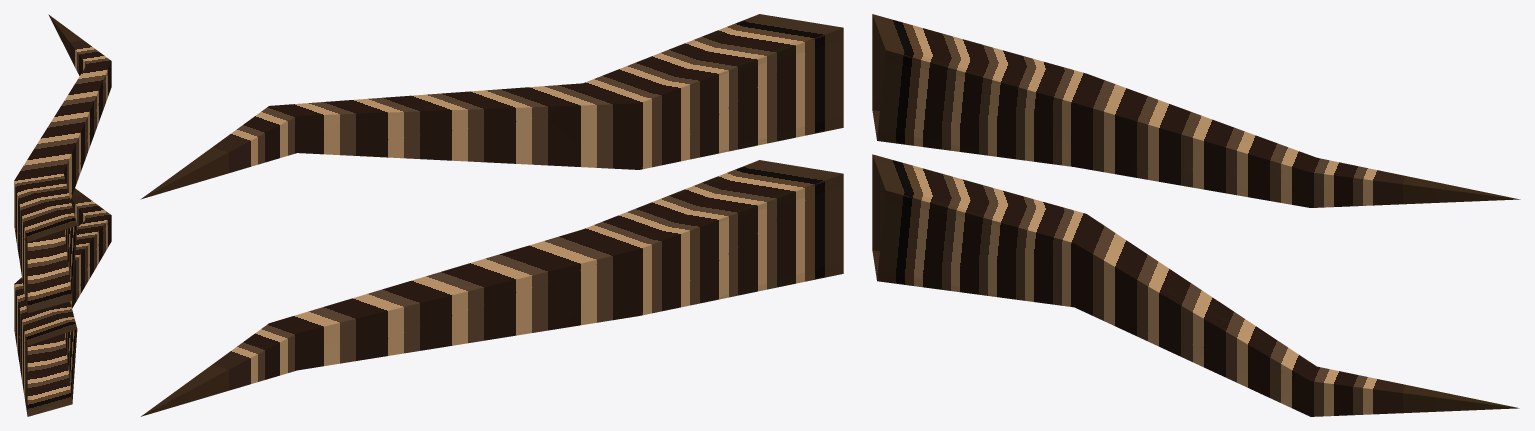
File: gazelle_horns.dae
The picture shows the model from 3 angles, left to right: view 1: azimuth 30°, elevation 25°; view 2: azimuth 150°, elevation 25°; view 3: azimuth 270°, elevation 25°; orthographic projection. The views are drawn at different scales.
Visible parts, largest first — view 1: Pyramid02-Pivot; view 2: Pyramid02-Pivot; view 3: Pyramid02-Pivot.
Part boxes in pixels (x1,y1,x2,y2): Pyramid02-Pivot: (14,14,111,416); Pyramid02-Pivot: (140,14,843,416); Pyramid02-Pivot: (872,14,1520,416).
Size of the model in its own units: 0.5414 by 0.8637 by 0.3596.
